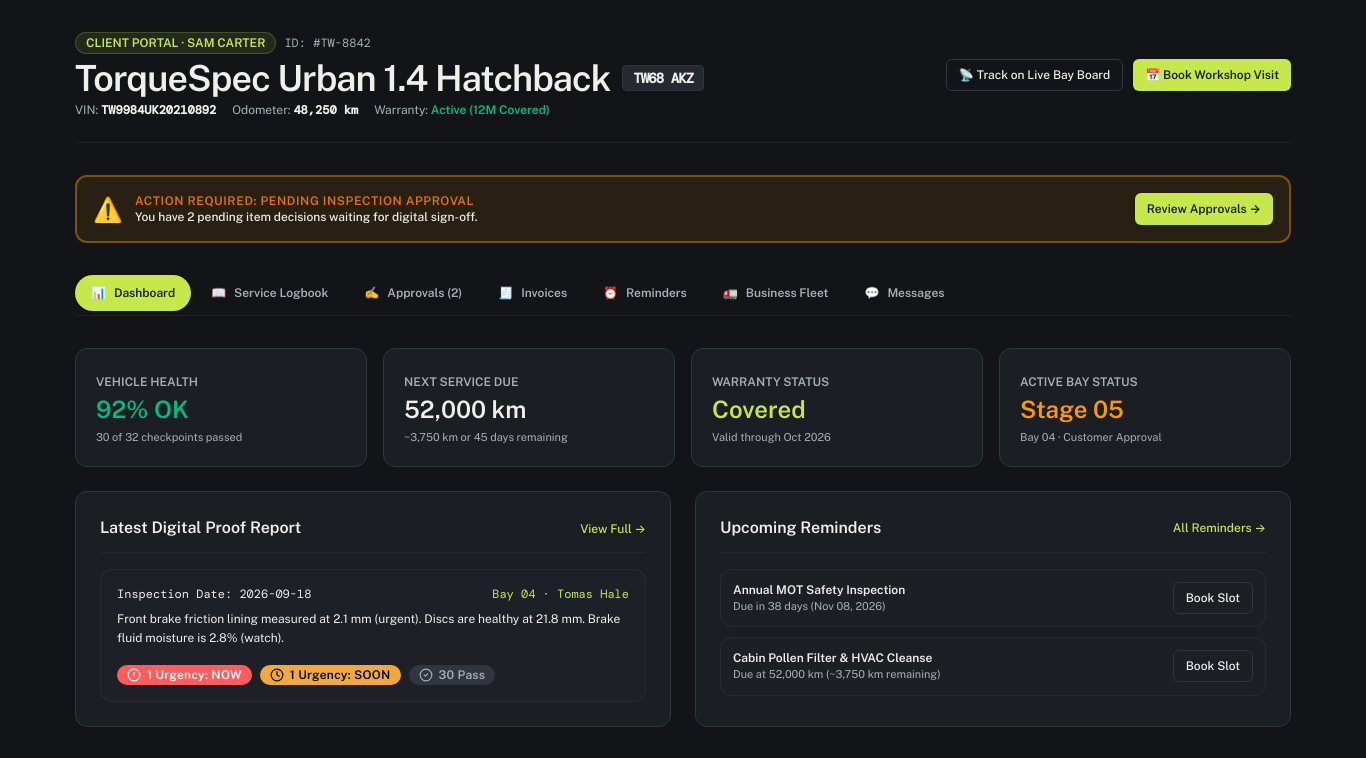
Test: Garage Customer Portal (Feature 06) › navigates to Logbook and displays verified service history
Switch to Logbook tab
Click the button "📖 Service Logbook": {"x": 270, "y": 293} [195, 275, 344, 311]
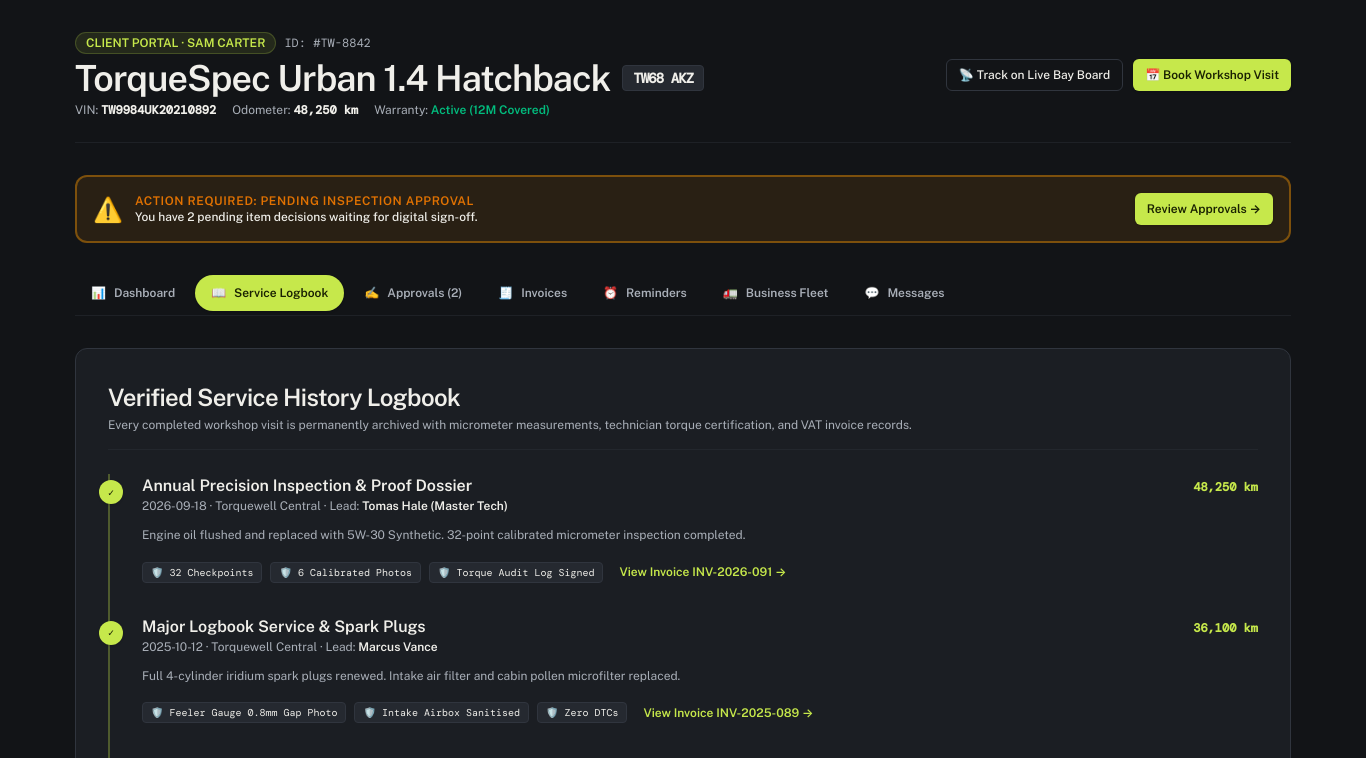
Expected: the heading "Verified Service History Logbook" is shown, [108, 383, 460, 411]
Expected: the heading "Annual Precision Inspection & Proof Dossier" is shown, [142, 474, 508, 498]
Expected: the text "Tomas Hale (Master Tech)" is shown, [362, 499, 508, 513]
